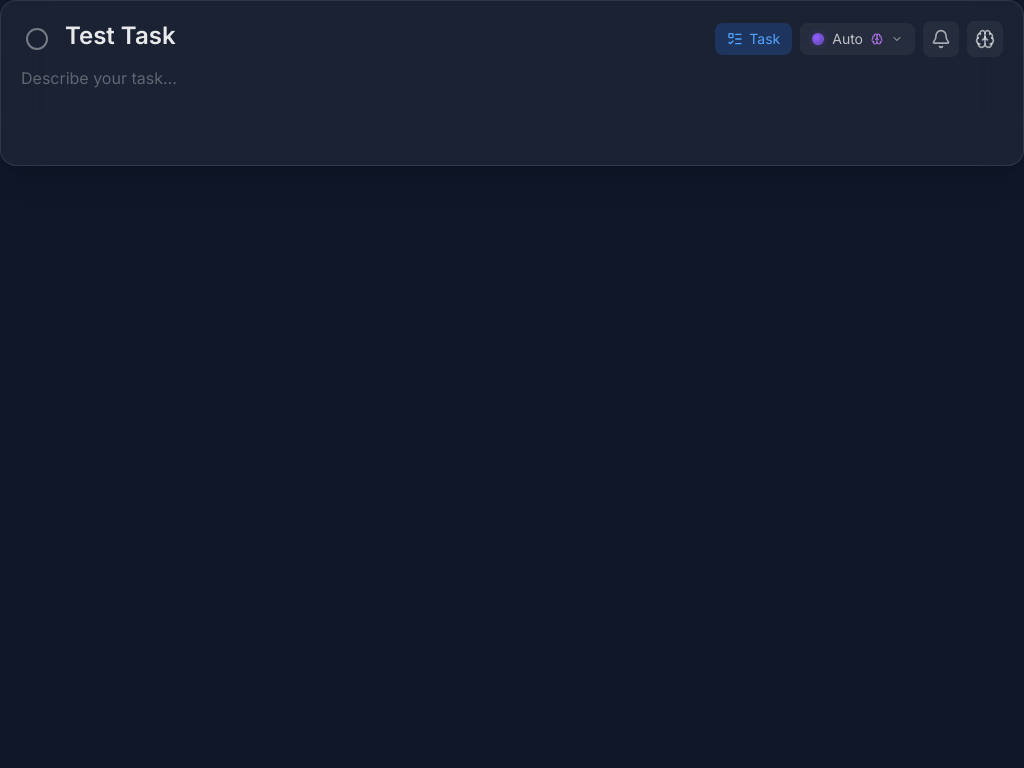
Scenario: TaskEditor › Bottom Left Buttons › should render content button when expanded
Click the text box named "title" at (382, 36), box top-left (65, 21), bottom-right (699, 51)
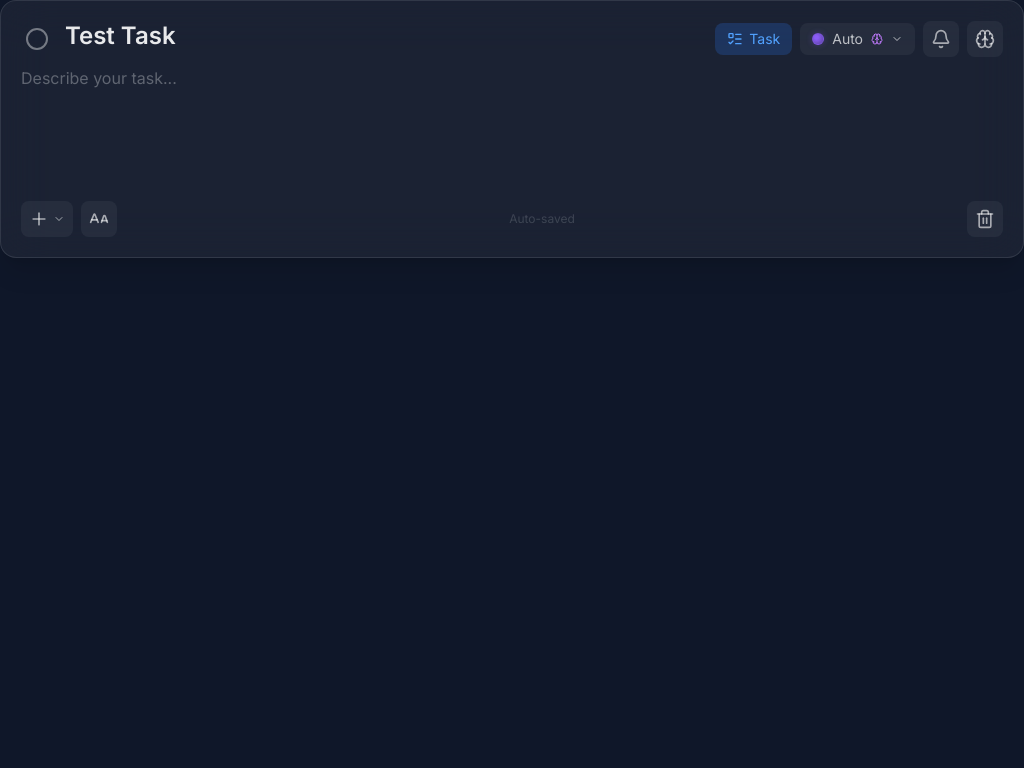
expect the button named "add content" is shown: met, box top-left (21, 201), bottom-right (73, 237)
